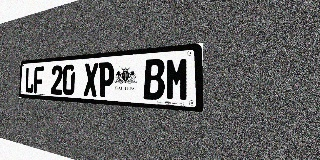0: (62, 64, 75, 95)
2: (51, 65, 63, 95)
B: (143, 58, 165, 100)
F: (34, 66, 44, 94)
L: (25, 67, 34, 93)
M: (165, 57, 190, 102)
P: (98, 62, 114, 98)
X: (83, 63, 98, 97)
